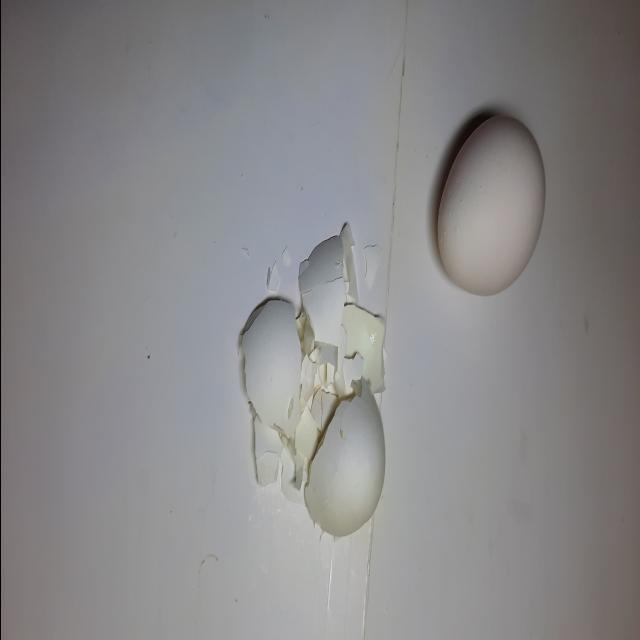egg shell: (424, 104, 550, 307), (297, 386, 393, 549), (290, 221, 358, 354), (245, 293, 305, 439), (335, 301, 398, 397)
